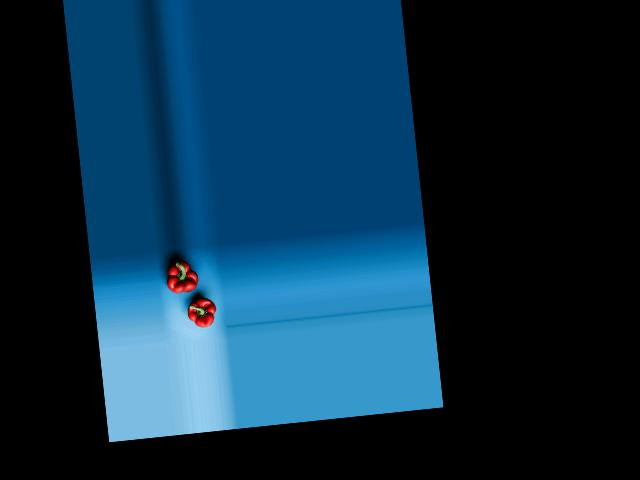bell_pepper: (164, 255, 203, 300)
